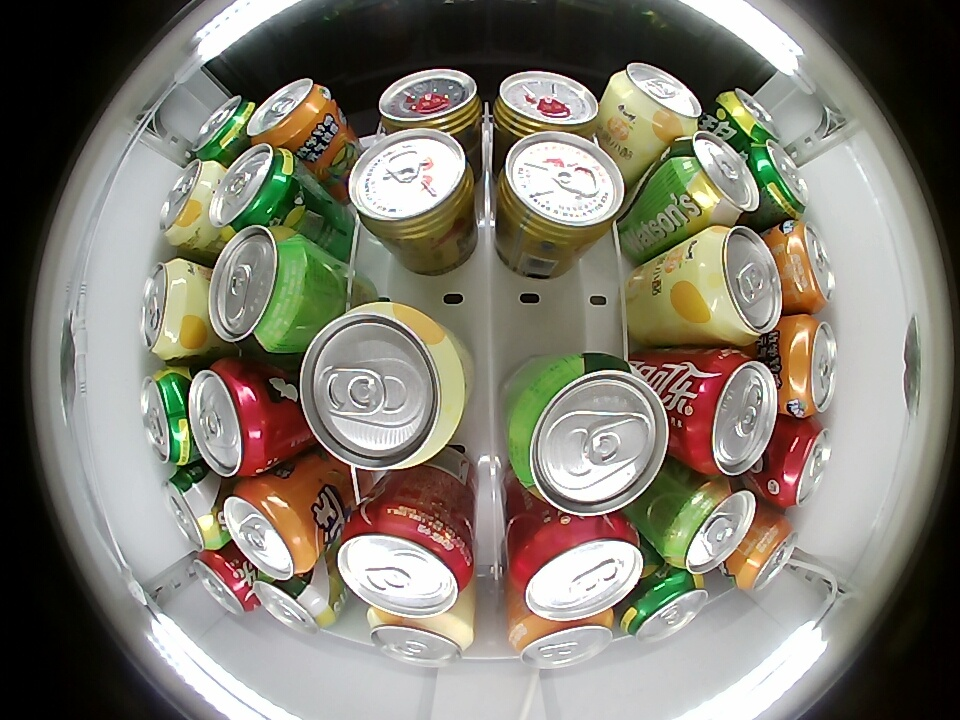fenda: (224, 476, 318, 580), (508, 610, 615, 669), (783, 312, 838, 418), (248, 78, 329, 145), (778, 221, 835, 311), (733, 518, 798, 593)
hongniu: (491, 71, 600, 139), (376, 68, 483, 135)
hongniu2: (349, 128, 476, 245), (496, 132, 624, 248)
kele: (337, 506, 474, 618), (508, 516, 644, 620), (681, 349, 778, 476), (188, 359, 273, 477), (772, 421, 833, 507), (192, 549, 258, 616)
mangguoxiaolao: (297, 302, 468, 471), (687, 226, 783, 344), (608, 62, 702, 141), (139, 257, 201, 360), (368, 609, 473, 667), (159, 159, 221, 246)
quchenshixiangcao: (507, 353, 670, 515), (209, 225, 311, 351), (662, 476, 756, 574), (670, 130, 759, 225), (254, 573, 338, 634), (167, 469, 224, 551)
xuebi2: (208, 143, 301, 231), (619, 570, 708, 643), (140, 367, 198, 465), (747, 139, 810, 220), (192, 94, 255, 161), (714, 87, 781, 145)
